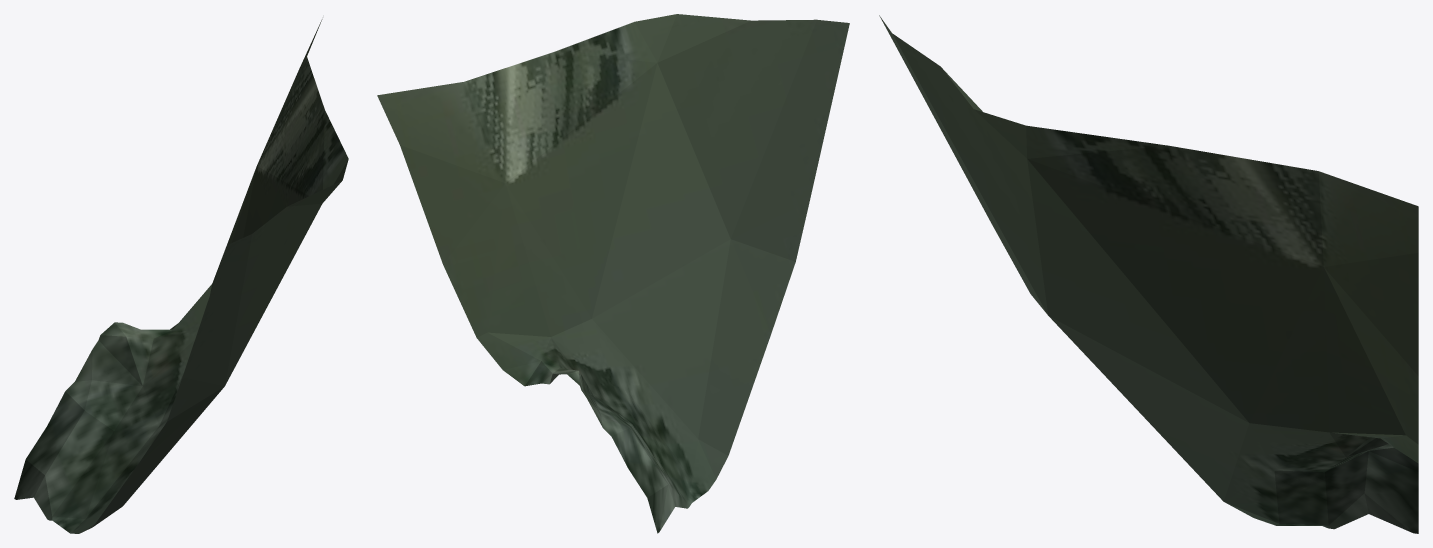
The picture shows the model from 3 angles, left to right: view 1: azimuth 30°, elevation 25°; view 2: azimuth 150°, elevation 25°; view 3: azimuth 270°, elevation 25°; orthographic projection. The views are drawn at different scales.
Size of the model in its own units: 2.78 by 3.51 by 3.3.
Materials: 1 (1 with a texture image).
